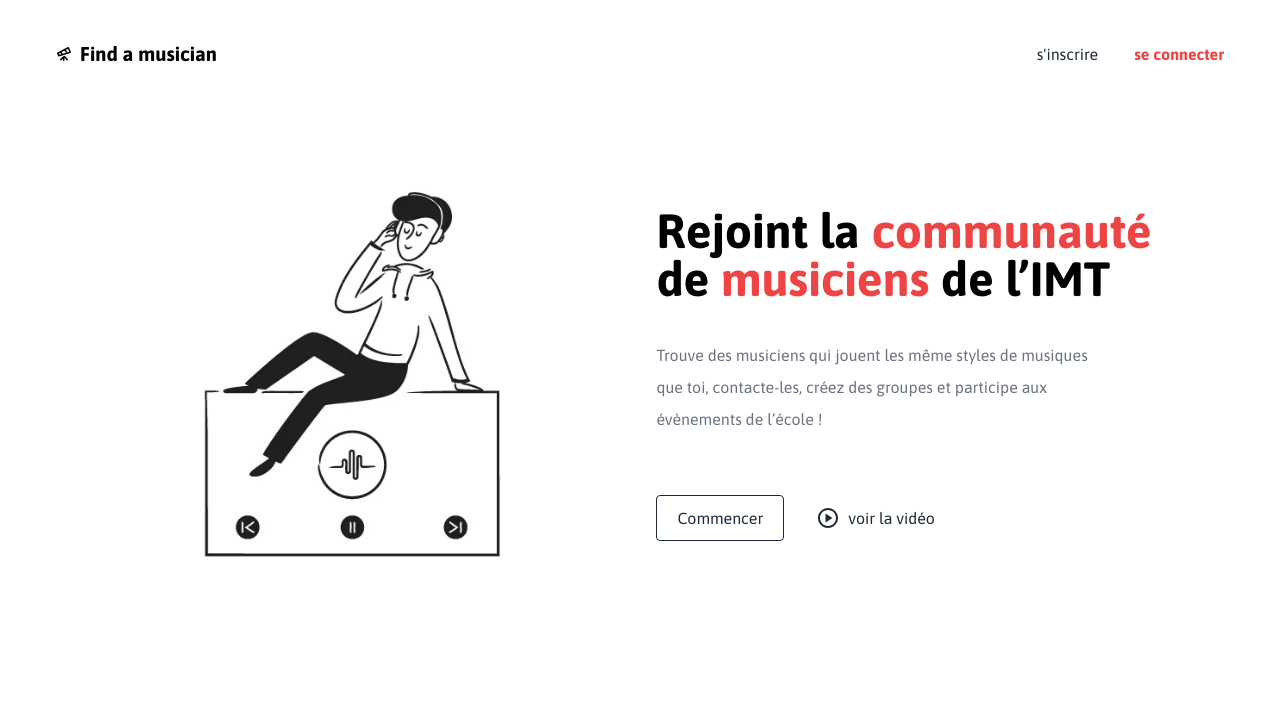
Scenario: login page › login form › should login with invalid credentials
Click the button "Commencer" at (720, 518), box [656,495,784,541]
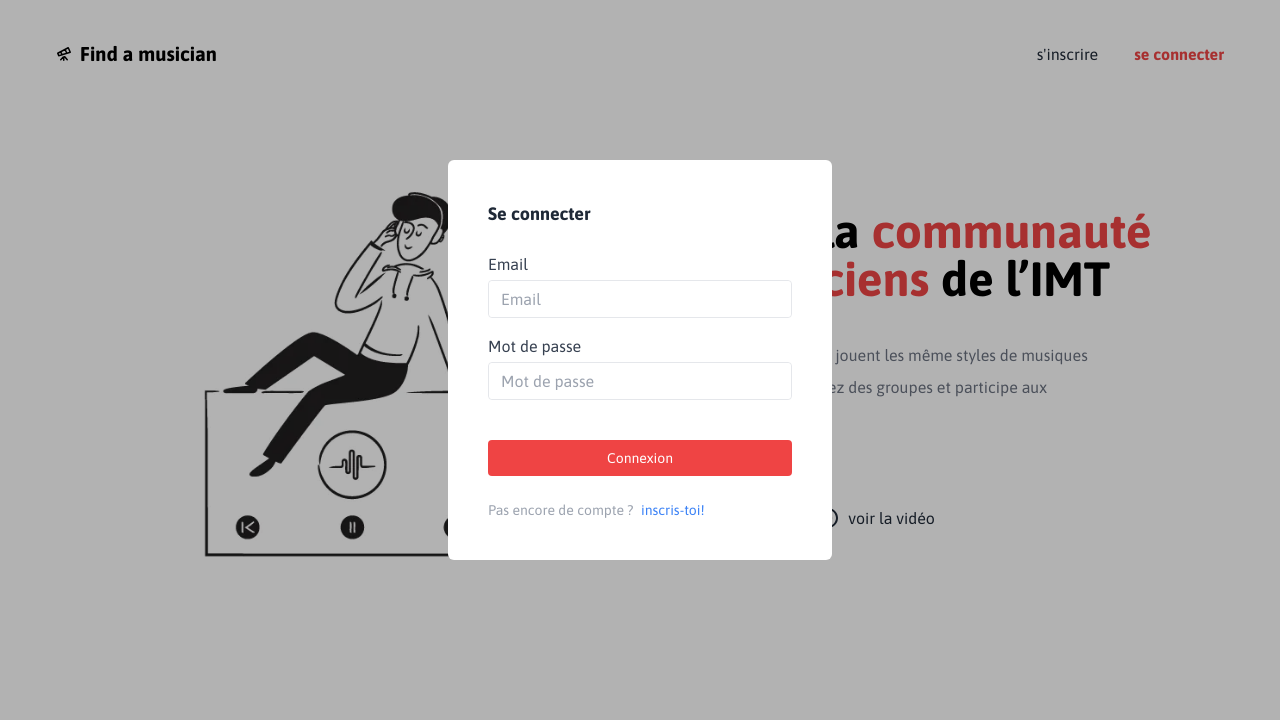
Type "romain.guar91@gmail.com" into the field with placeholder "Email" at (640, 299), box [489,281,791,317]
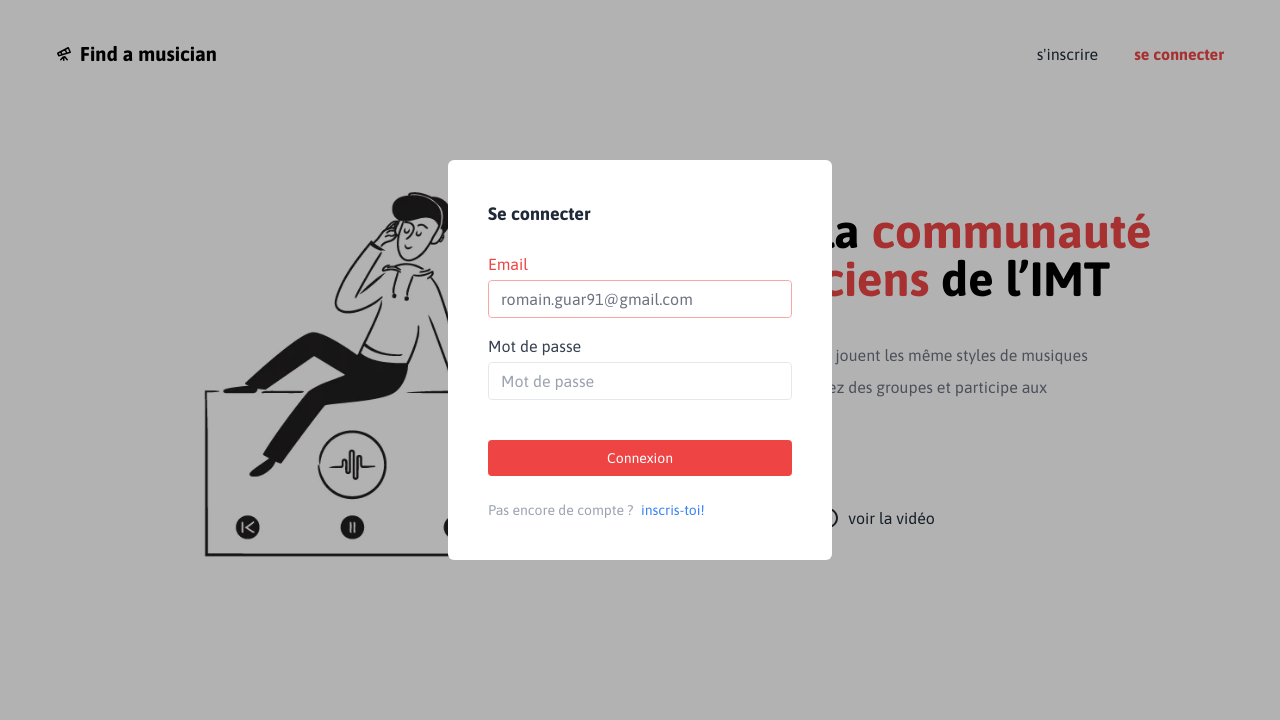
Type "azerty" into the password field with placeholder "Mot de passe" at (640, 381), box [489,363,791,399]
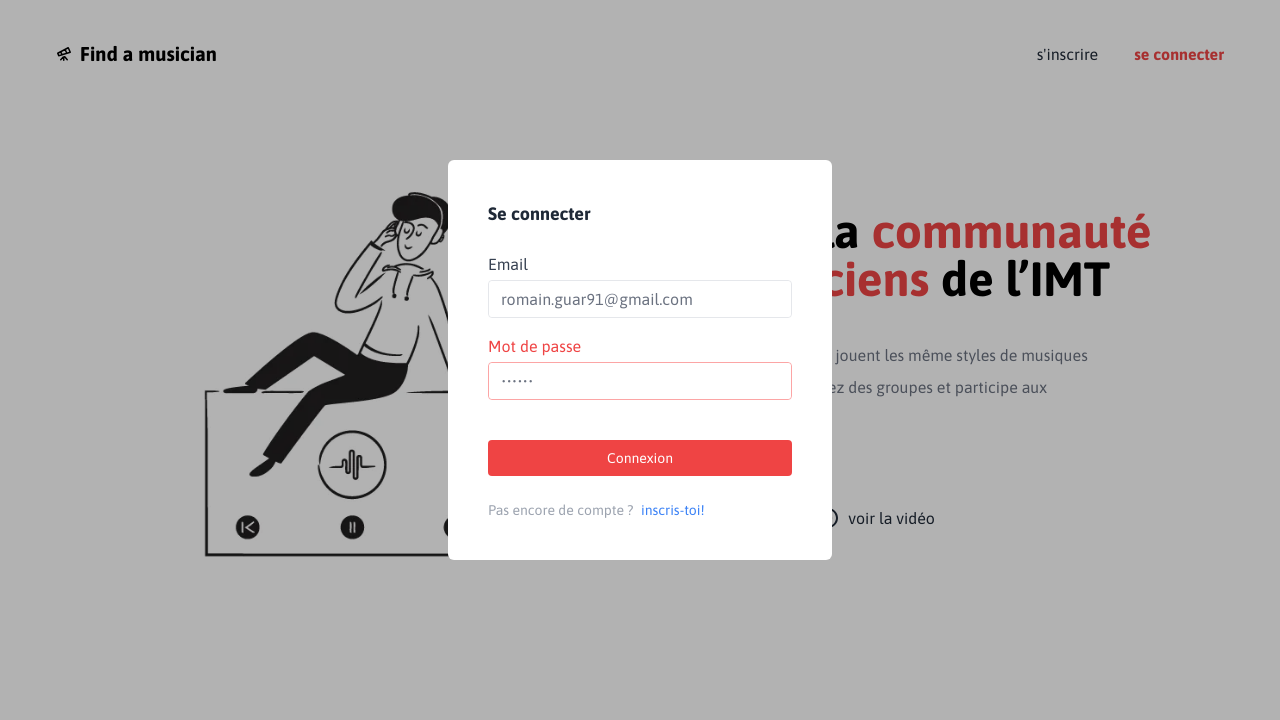
Click the button "Connexion" at (640, 458), box [488,440,792,476]
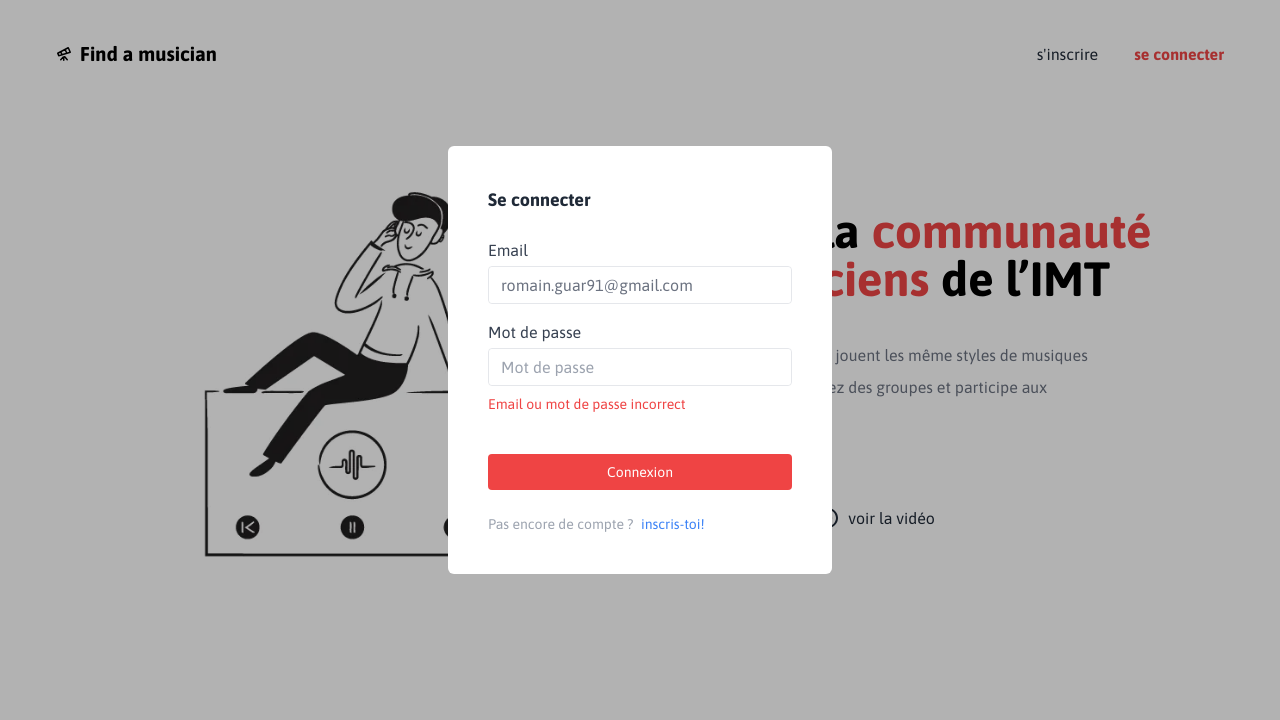
Expected: the text "Email ou mot de passe incorrect" is shown, [488,396,686,412]
